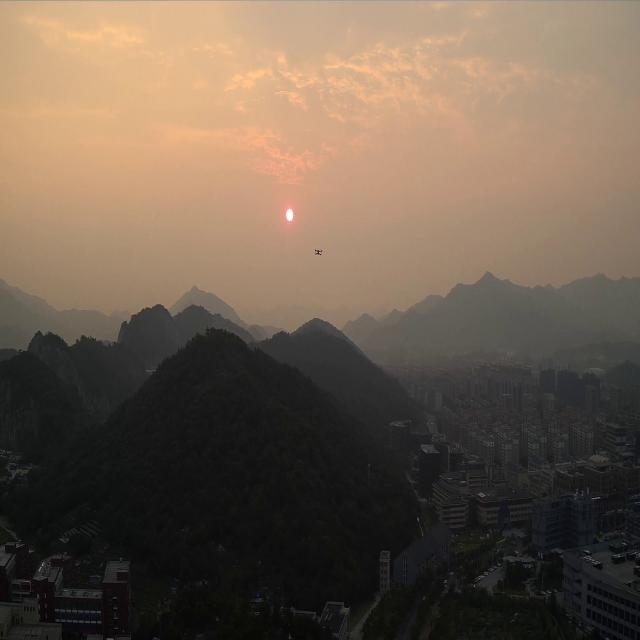UAV: (314, 247, 323, 256)
